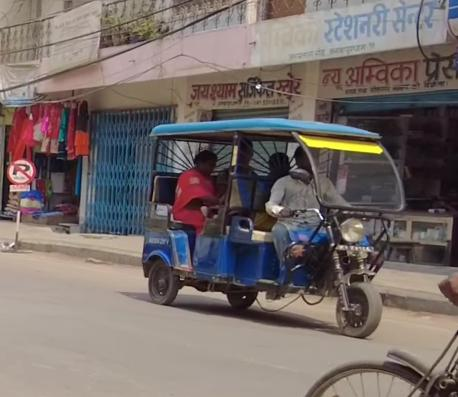e-rickshaw: (142, 119, 408, 342)
